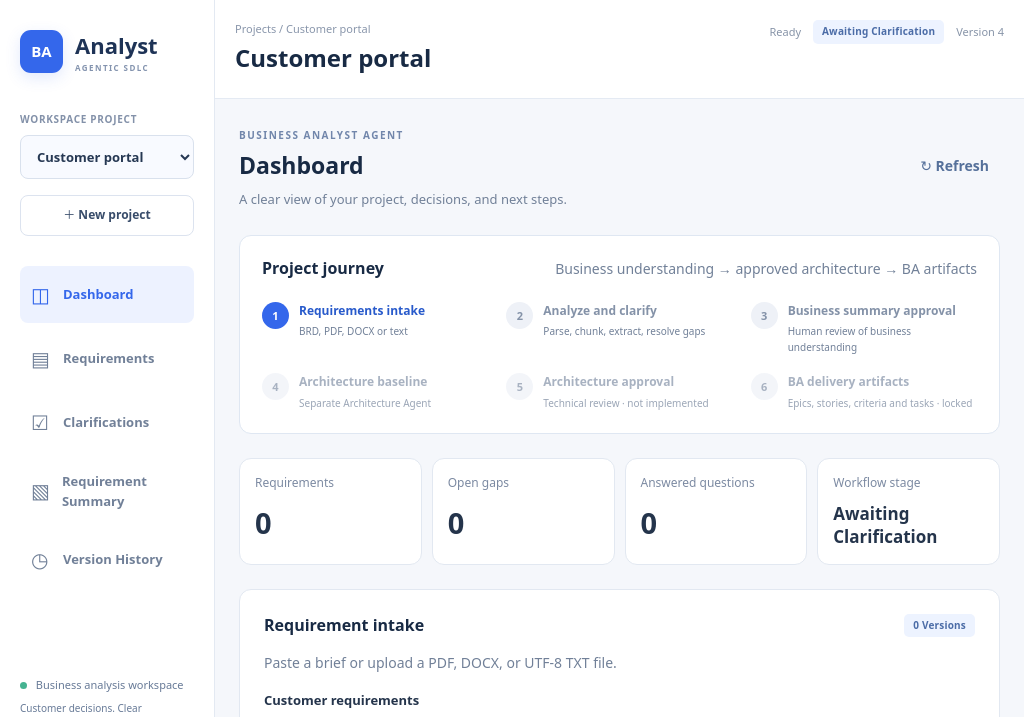
it: provides working project navigation and searchable requirement cards
The width and height of the screenshot is (1024, 717).
Check: the heading "Customer portal" is shown, box [235,42,431,73]
Check: the button "◫ Dashboard" is shown, box [20,266,194,323]
Step 1. Click the button "▤ Requirements" → (107, 358), box [20,330,194,387]
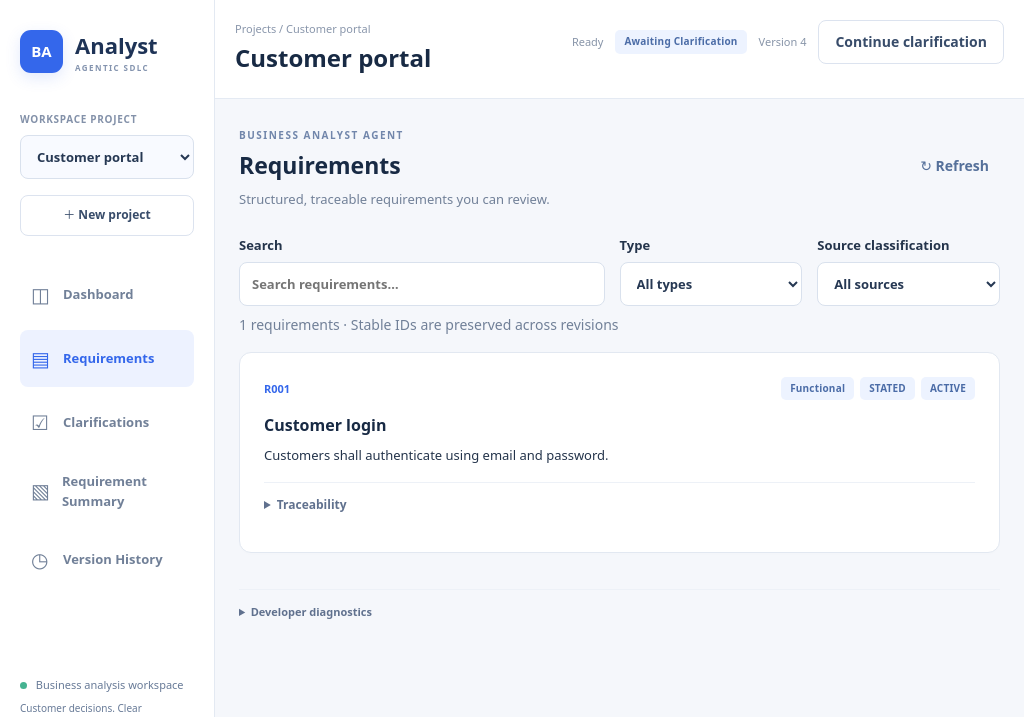
Check: the heading "Customer login" is shown, box [264,414,386,436]
Step 2. Type "does not exist" into the field with placeholder "Search requirements…" → (422, 284), box [239,262,604,306]
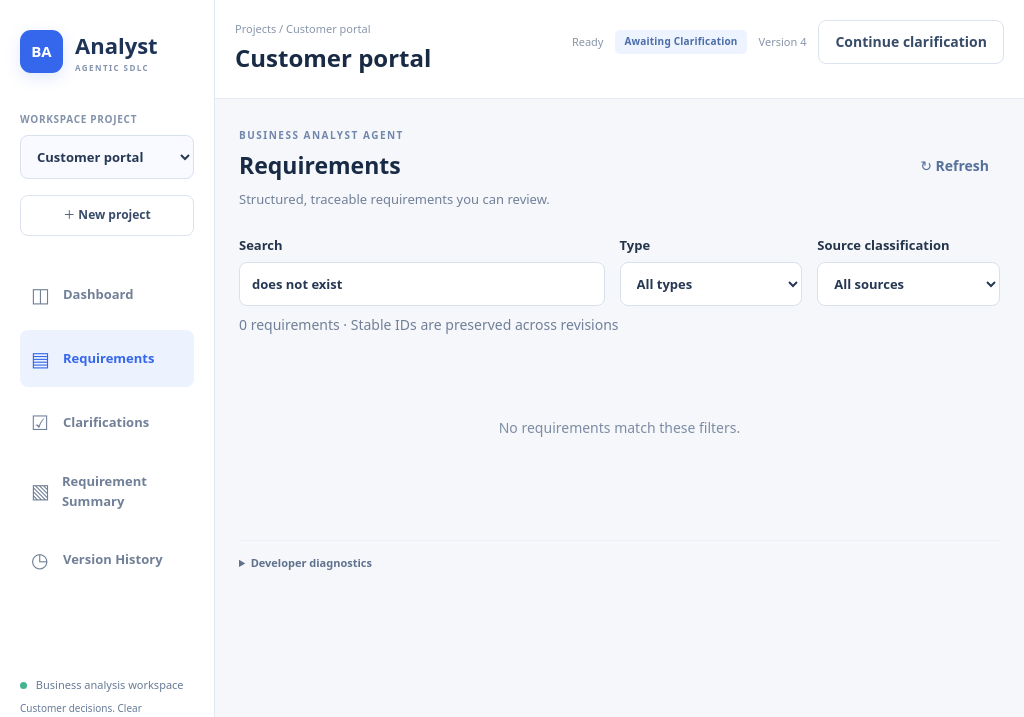
Check: the text "No requirements match these filters." is shown, box [499,418,740,437]
